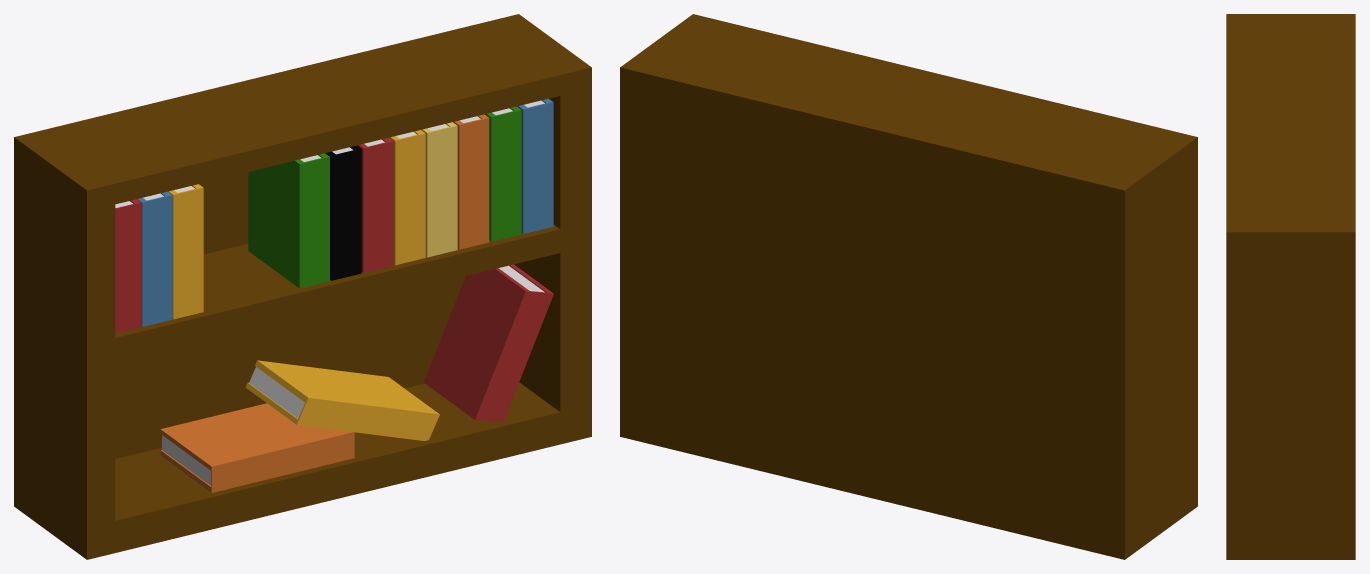
Rendered from bookshelf.fbx.
The picture shows the model from 3 angles, left to right: view 1: azimuth 30°, elevation 25°; view 2: azimuth 150°, elevation 25°; view 3: azimuth 270°, elevation 25°; orthographic projection. The views are drawn at different scales.
Parts seen in each view (by area): view 1: H_Bookshelf; view 2: H_Bookshelf; view 3: H_Bookshelf.
Boxes of the visible parts, x1,y1,x2,y2 form: H_Bookshelf: [14, 14, 591, 559]; H_Bookshelf: [620, 14, 1197, 559]; H_Bookshelf: [1226, 14, 1355, 559].
Bounding box in the file's own units: 608 × 152 × 425.
